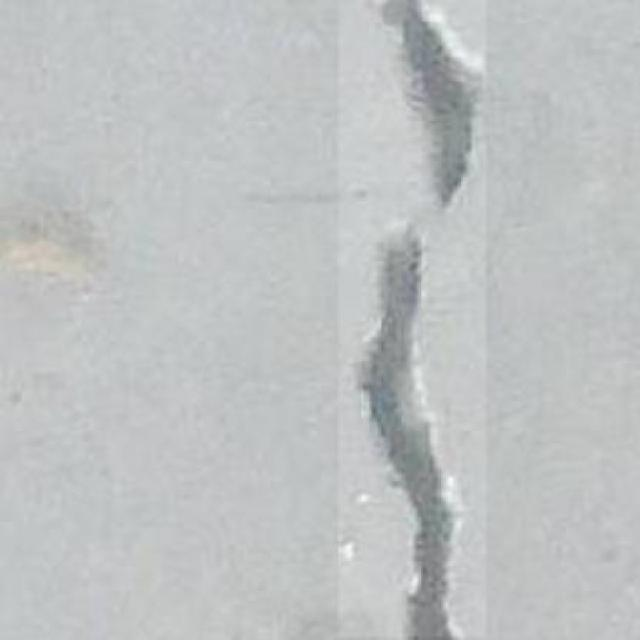crack: (334, 0, 496, 640)
